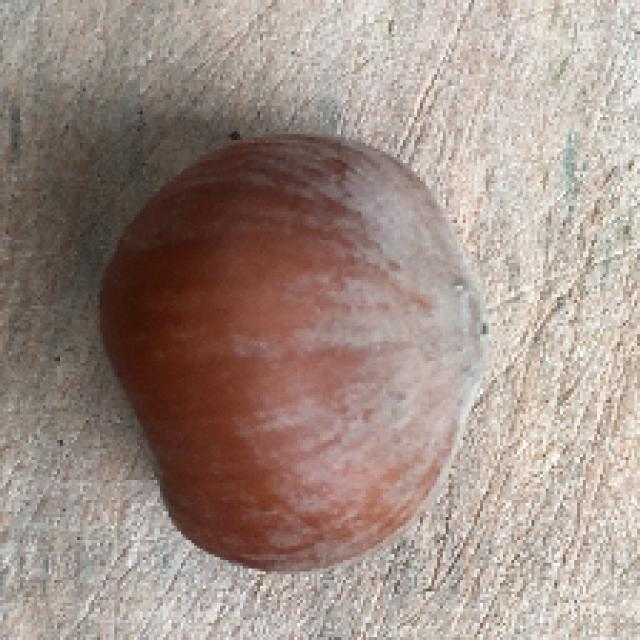qualityHazelnut: (86, 124, 498, 580)
